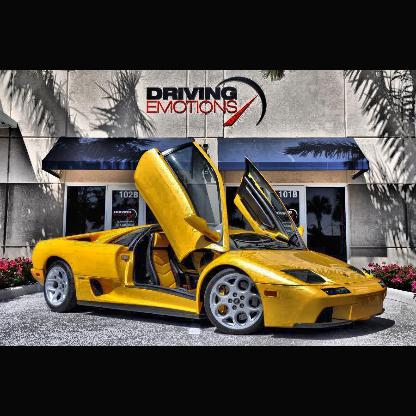Lamborghini Diablo Coupe 2001: (28, 128, 388, 336)
